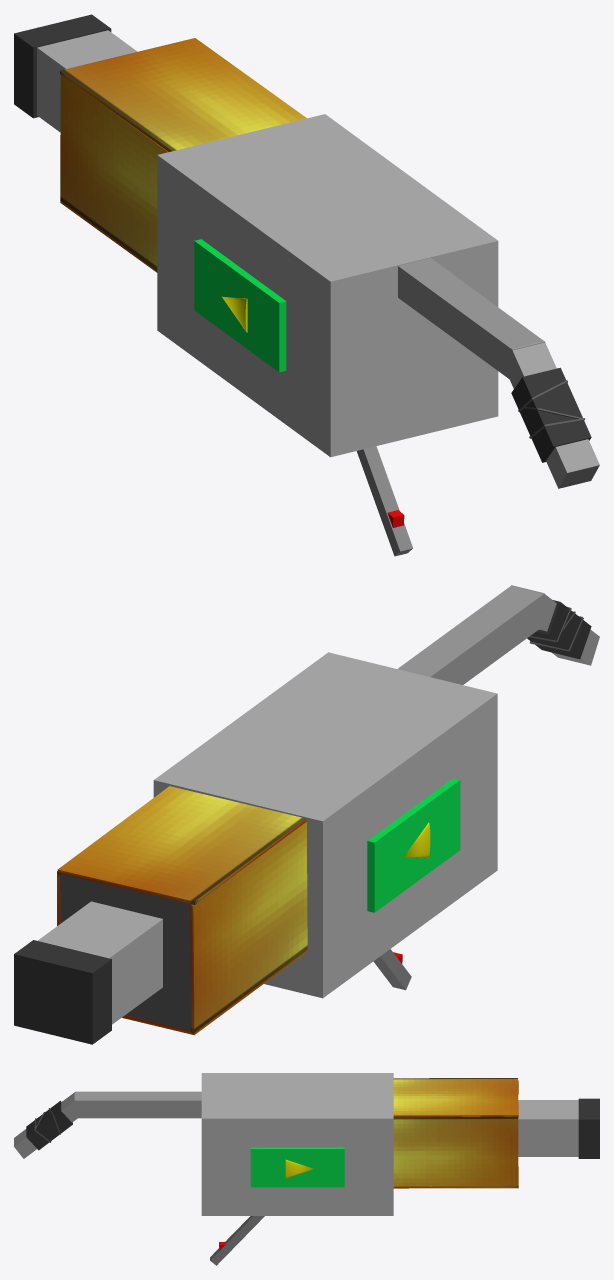
File: Pestiside_Thrower.fbx
The picture shows the model from 3 angles, top to bottom: view 1: azimuth 30°, elevation 25°; view 2: azimuth 150°, elevation 25°; view 3: azimuth 270°, elevation 25°; orthographic projection. The views are drawn at different scales.
Parts seen in each view (by area): view 1: pCube1, pasted__pCube11, pCube11, pCube5, pCube10, pCube9, pCube3, pCube8, pCube6; view 2: pCube1, pasted__pCube11, pCube11, pCube8, pCube5, pCube3, pCube2, pCube10, pCube9, pCube6, pasted__pasted__pCube11; view 3: pCube1, pasted__pCube11 (×2), pCube5, pCube10, pCube3, pCube8, pCube9, pCube6, pasted__pasted__pCube11, pCone1.
Boxes of the visible parts, x1=… form: pCube1: x1=157, y1=114, x2=498, y2=457; pasted__pCube11: x1=60, y1=38, x2=306, y2=151; pCube11: x1=60, y1=74, x2=168, y2=270; pCube5: x1=398, y1=258, x2=599, y2=488; pCube10: x1=194, y1=239, x2=286, y2=372; pCube9: x1=511, y1=367, x2=591, y2=462; pCube3: x1=37, y1=30, x2=137, y2=132; pCube8: x1=14, y1=14, x2=111, y2=118; pCube6: x1=356, y1=446, x2=412, y2=556; pCube1: x1=153, y1=652, x2=497, y2=998; pasted__pCube11: x1=57, y1=786, x2=306, y2=904; pCube11: x1=190, y1=822, x2=307, y2=1032; pCube8: x1=14, y1=940, x2=111, y2=1044; pCube5: x1=397, y1=585, x2=599, y2=684; pCube3: x1=37, y1=901, x2=162, y2=1024; pCube2: x1=60, y1=873, x2=191, y2=1030; pCube10: x1=367, y1=778, x2=460, y2=912; pCube9: x1=527, y1=600, x2=591, y2=659; pCube6: x1=373, y1=949, x2=411, y2=990; pasted__pasted__pCube11: x1=122, y1=950, x2=306, y2=1035; pCube1: x1=201, y1=1073, x2=393, y2=1215; pasted__pCube11 (×2): x1=393, y1=1078, x2=518, y2=1186; pCube5: x1=14, y1=1091, x2=201, y2=1158; pCube10: x1=250, y1=1147, x2=344, y2=1187; pCube3: x1=518, y1=1100, x2=578, y2=1156; pCube8: x1=578, y1=1098, x2=599, y2=1158; pCube9: x1=26, y1=1101, x2=72, y2=1150; pCube6: x1=210, y1=1216, x2=264, y2=1265; pasted__pasted__pCube11: x1=393, y1=1186, x2=518, y2=1188; pCone1: x1=285, y1=1160, x2=313, y2=1178.
Bounding box in the file's own units: 1.23 × 1.92 × 6.05.
